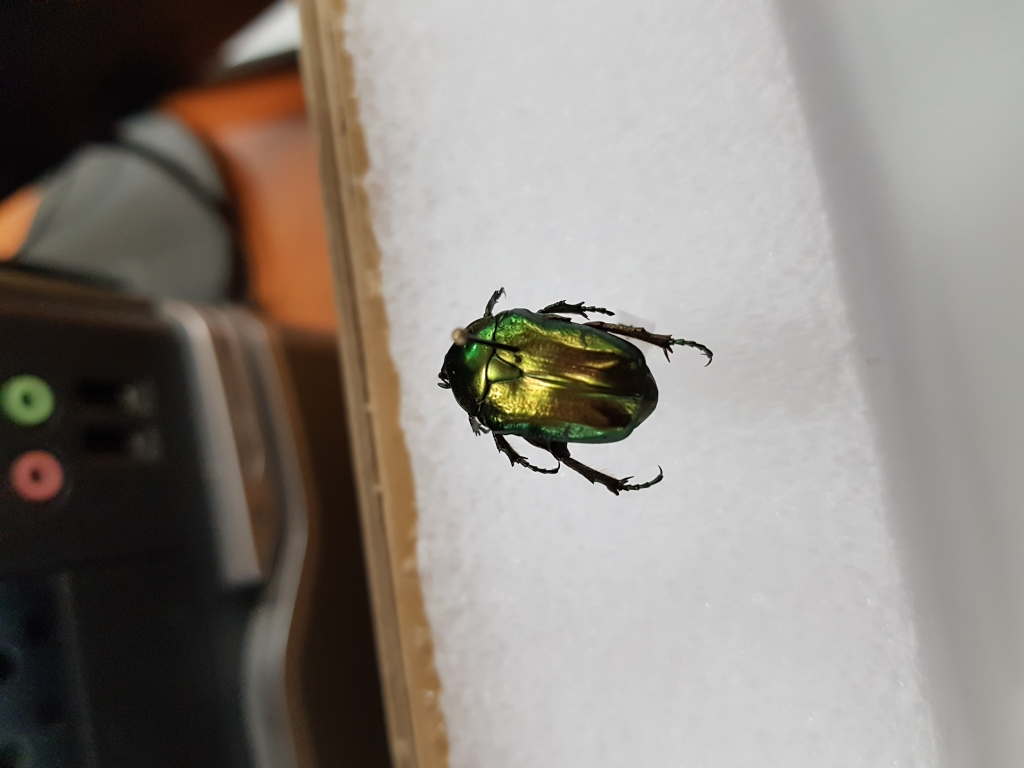Cetonia_aurata: (434, 278, 726, 498)
